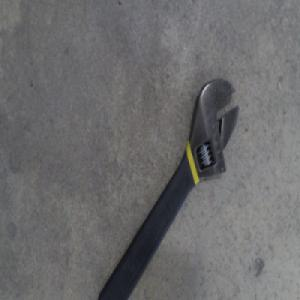AdjustableWrench: (99, 78, 241, 299)
